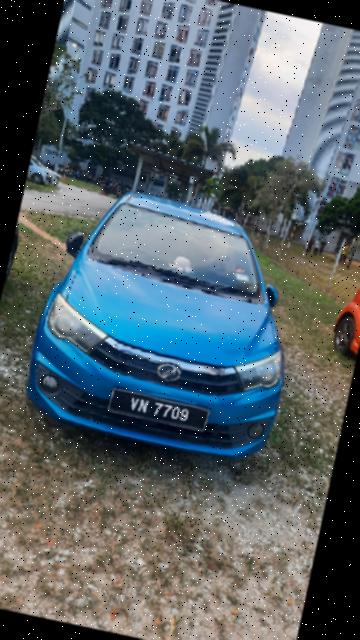License_Plate: (103, 385, 217, 440)
car: (12, 172, 334, 482)
